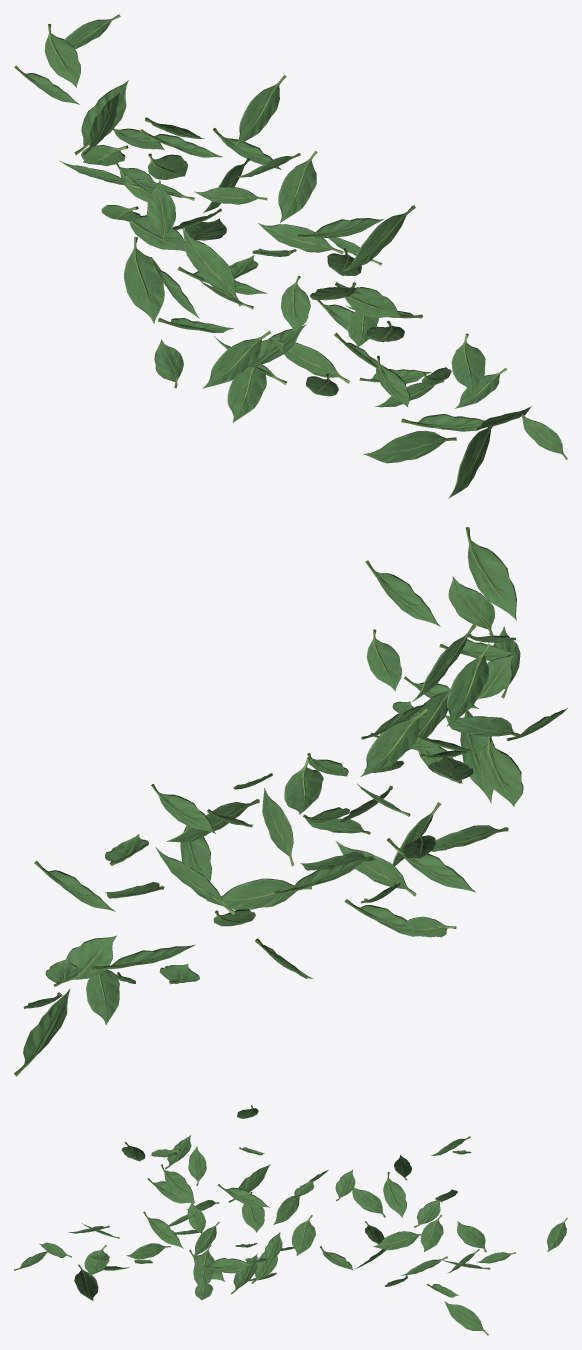
The model's file is holy_canopy4_full.glb.
3 renders of one model, top to bottom at view 1: azimuth 30°, elevation 25°; view 2: azimuth 150°, elevation 25°; view 3: azimuth 270°, elevation 25°, orthographic. The views are drawn at different scales.
Parts seen in each view (by area): view 1: holy_canopy4; view 2: holy_canopy4; view 3: holy_canopy4.
Part boxes in pixels (box(x1,y1,x2,y2)): holy_canopy4: box(14, 14, 567, 498); holy_canopy4: box(14, 527, 567, 1076); holy_canopy4: box(14, 1105, 567, 1335).
Size of the model in its own units: 10.13 by 11.1 by 28.02.
Materials: 1 (1 with a texture image).
